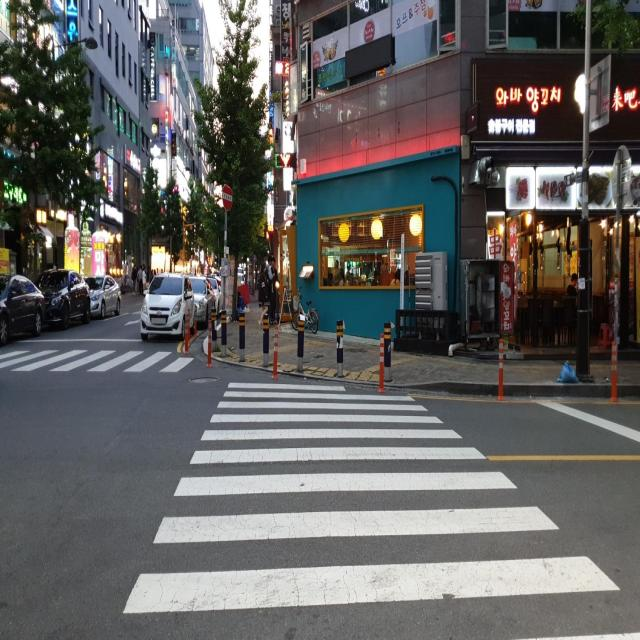횡단보도: (118, 374, 640, 640), (0, 339, 192, 376)
